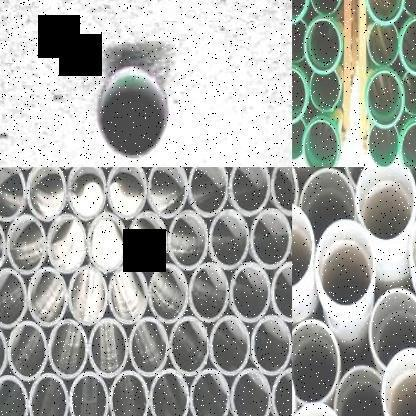pipe: (96, 64, 167, 162), (314, 219, 376, 309), (298, 168, 358, 249), (355, 166, 416, 244), (292, 318, 341, 406), (368, 286, 416, 368), (333, 365, 386, 416), (251, 315, 292, 376), (209, 209, 250, 270), (250, 208, 291, 269), (48, 318, 88, 380), (168, 210, 208, 272), (380, 347, 416, 415), (169, 315, 209, 376), (210, 315, 250, 375), (27, 267, 67, 327), (148, 264, 188, 324), (189, 262, 229, 322), (68, 266, 108, 325), (230, 264, 270, 323), (6, 215, 46, 274), (128, 212, 168, 271), (8, 320, 47, 380), (129, 318, 169, 376), (109, 266, 149, 324), (87, 214, 127, 272), (89, 319, 128, 378), (304, 15, 342, 75), (366, 70, 404, 130), (48, 214, 86, 274), (26, 167, 66, 221), (68, 167, 108, 220), (107, 167, 147, 219), (229, 167, 270, 217), (148, 167, 188, 218), (302, 116, 340, 167), (292, 202, 314, 290), (150, 368, 190, 416), (231, 368, 271, 416), (190, 167, 228, 217), (190, 369, 230, 416), (108, 370, 148, 416), (68, 373, 108, 416), (29, 373, 68, 416), (1, 268, 26, 327), (0, 167, 25, 221), (368, 24, 399, 67), (309, 69, 340, 111), (343, 167, 404, 188), (271, 262, 292, 321), (369, 126, 399, 167), (0, 375, 28, 416), (398, 14, 416, 76), (271, 167, 292, 216), (364, 0, 405, 25), (292, 64, 308, 124), (272, 368, 292, 416), (398, 118, 416, 167), (292, 19, 307, 62), (401, 72, 416, 115), (292, 118, 307, 160), (409, 203, 416, 292), (310, 0, 341, 14), (292, 0, 308, 23), (401, 0, 416, 16)
